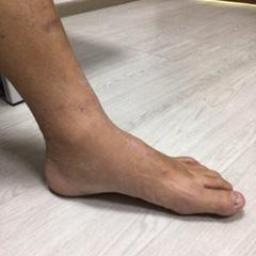Medial View -Left Foot-: (28, 109, 250, 232)
